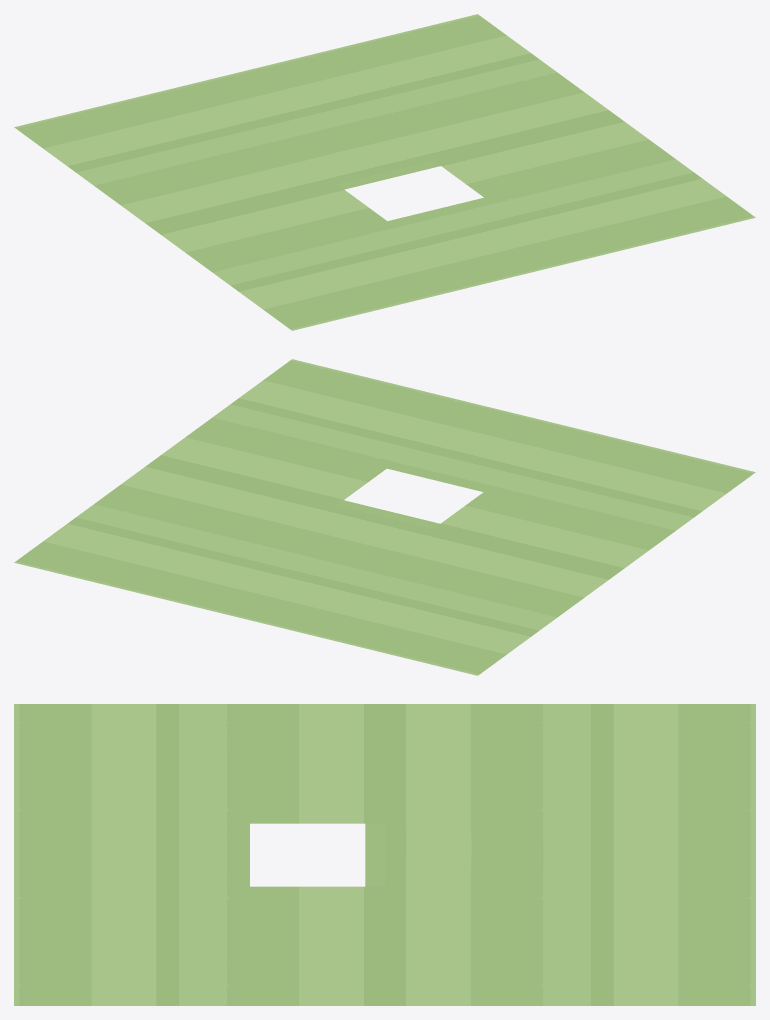
Rendered from Mesh_Battle_Match_Ground.fbx.
3 views of the same model, one above another, from view 1: azimuth 30°, elevation 25°; view 2: azimuth 150°, elevation 25°; view 3: azimuth 270°, elevation 25° (orthographic). The views are drawn at different scales.
Parts seen in each view (by area): view 1: Mesh_Battle_Match_Ground; view 2: Mesh_Battle_Match_Ground; view 3: Mesh_Battle_Match_Ground.
Part boxes in pixels (left/top/right/bottom): Mesh_Battle_Match_Ground: left=14, top=14, right=755, bottom=330; Mesh_Battle_Match_Ground: left=14, top=359, right=755, bottom=675; Mesh_Battle_Match_Ground: left=14, top=704, right=755, bottom=1005.
Bounding box in the file's own units: 10640 × 0.000149 × 11053.
